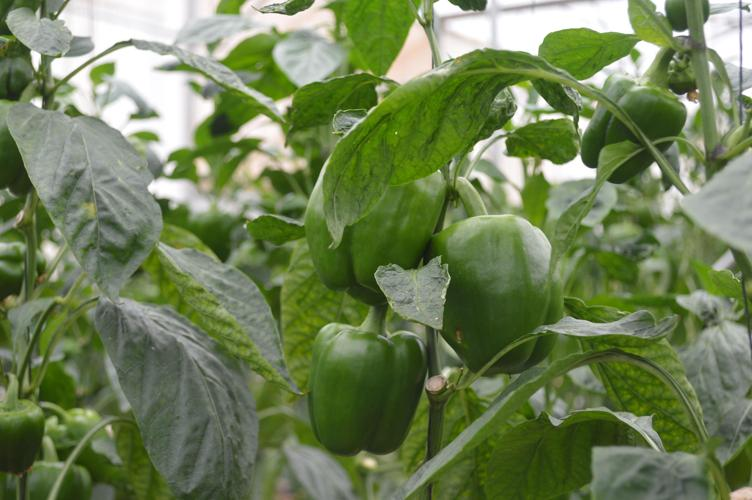BellPepper: (436, 216, 566, 372), (303, 151, 441, 290), (302, 328, 430, 462), (573, 76, 686, 175)
